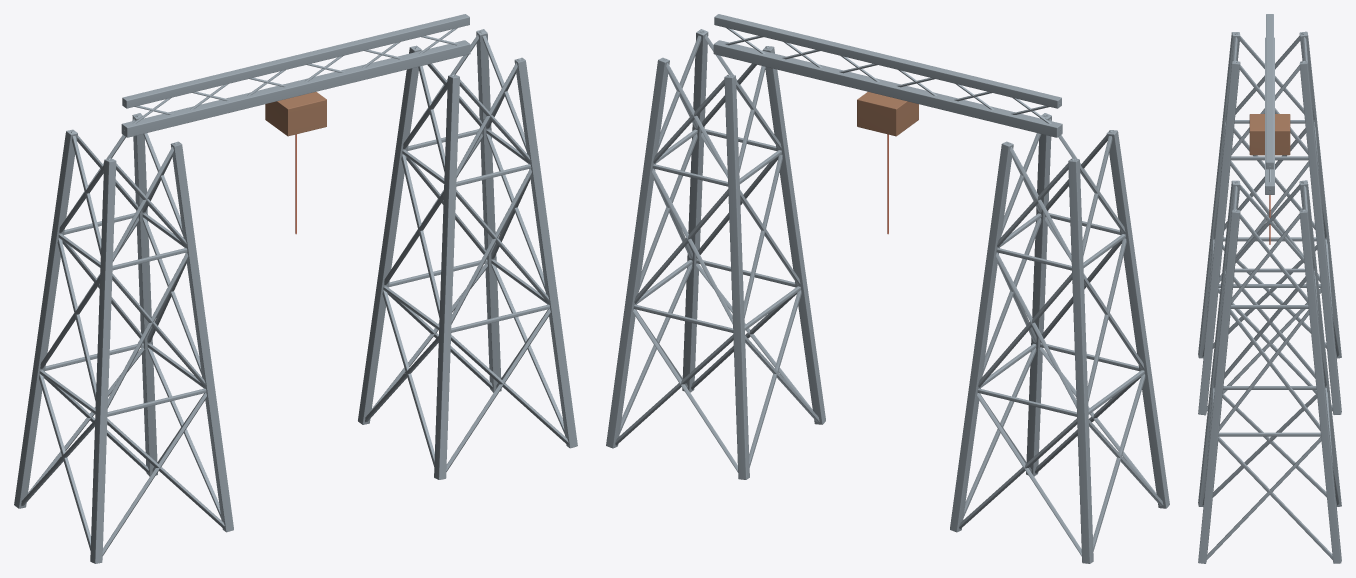
File: gantry_crane.glb
3 views of the same model, side by side, from view 1: azimuth 30°, elevation 25°; view 2: azimuth 150°, elevation 25°; view 3: azimuth 270°, elevation 25° (orthographic). The views are drawn at different scales.
Parts seen in each view (by area): view 1: gantry_crane; view 2: gantry_crane; view 3: gantry_crane.
Part boxes in pixels (x1,y1,x2,y2): gantry_crane: (14, 14, 577, 563); gantry_crane: (606, 14, 1169, 563); gantry_crane: (1198, 14, 1341, 563).
Size of the model in its own units: 7.33 by 6.08 by 2.13.
